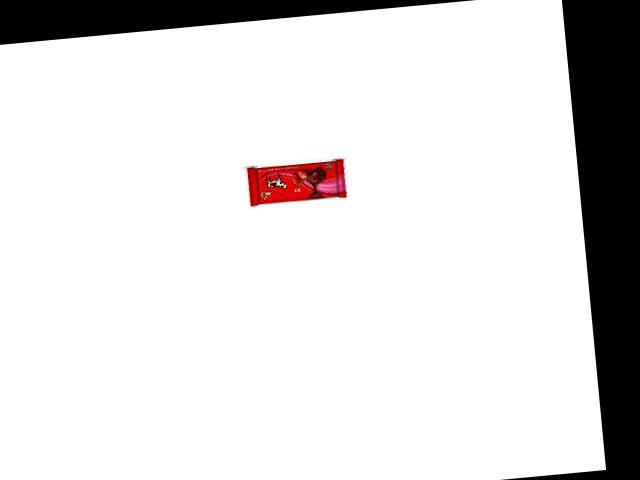chocolate: (238, 152, 347, 206)
